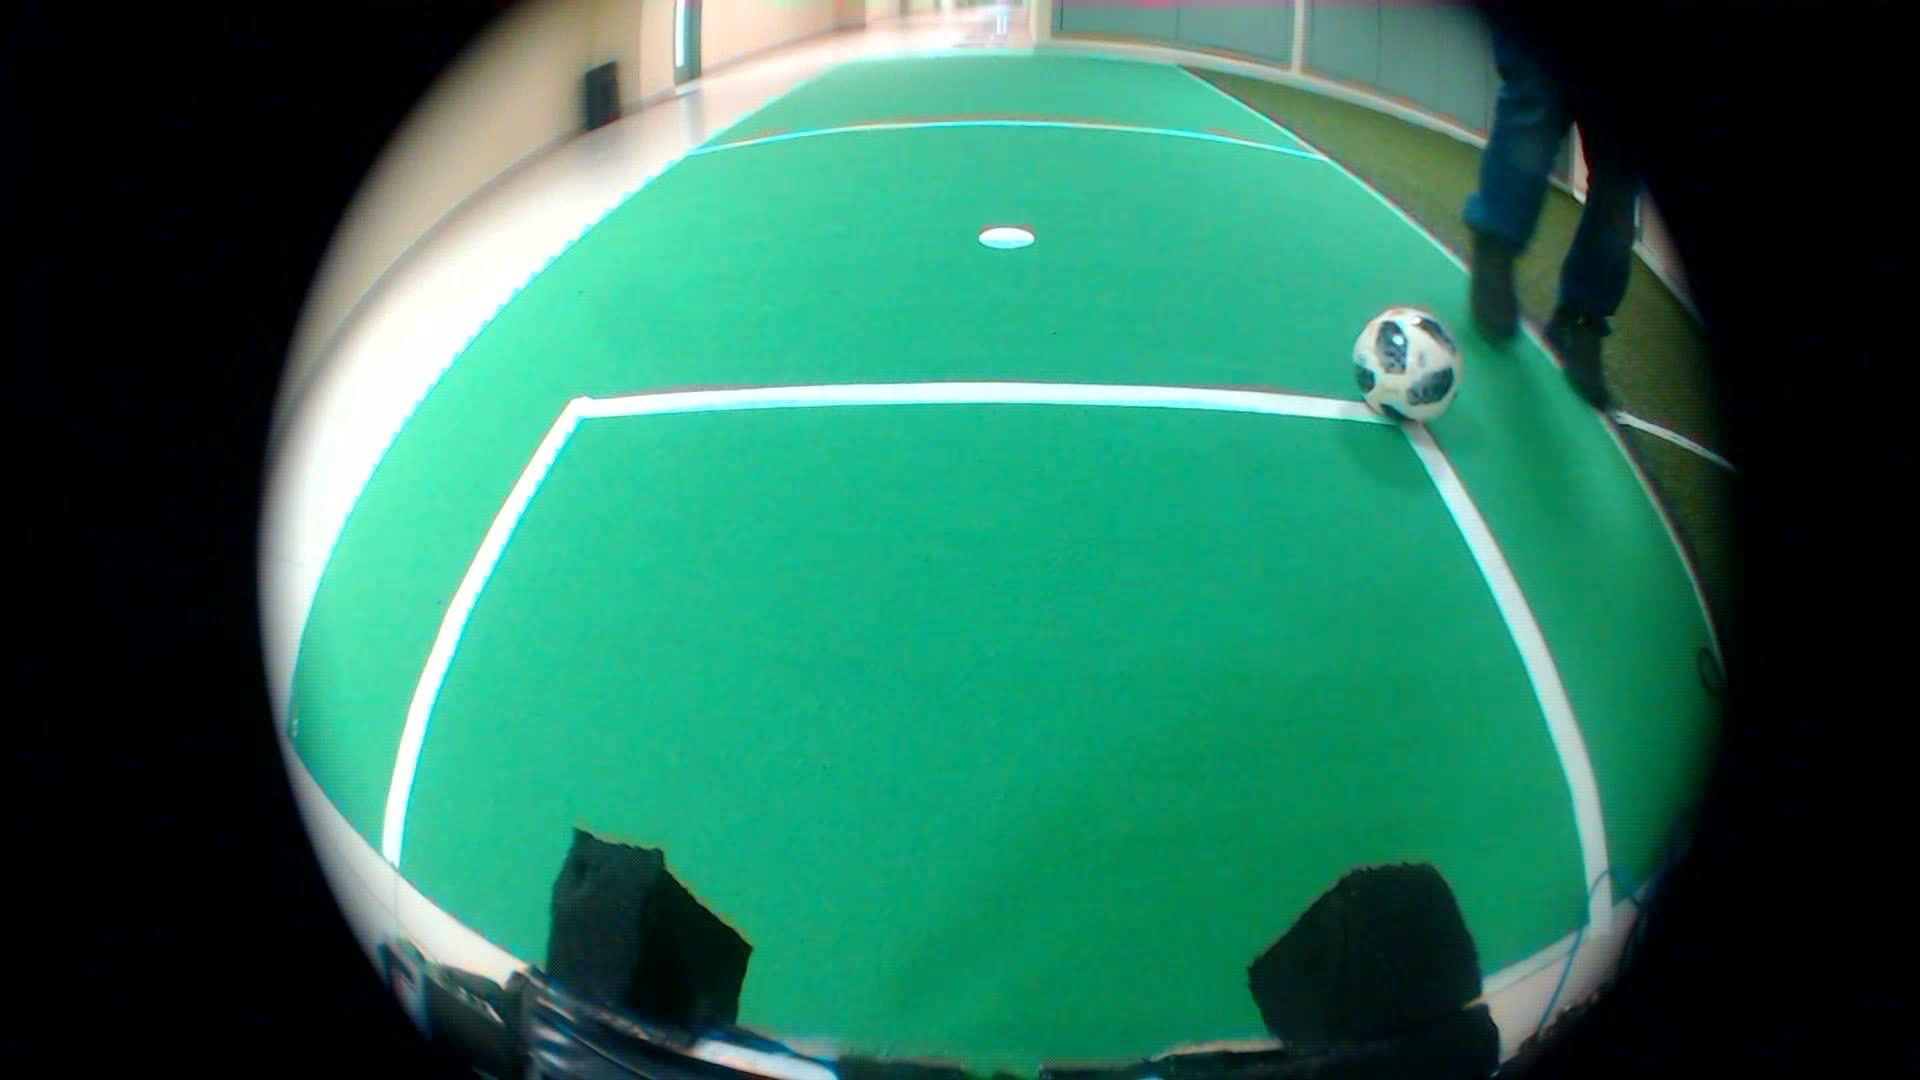ball: (1352, 305, 1457, 431)
